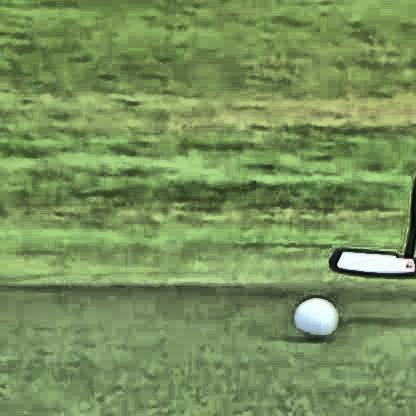golfball: (292, 294, 336, 336)
